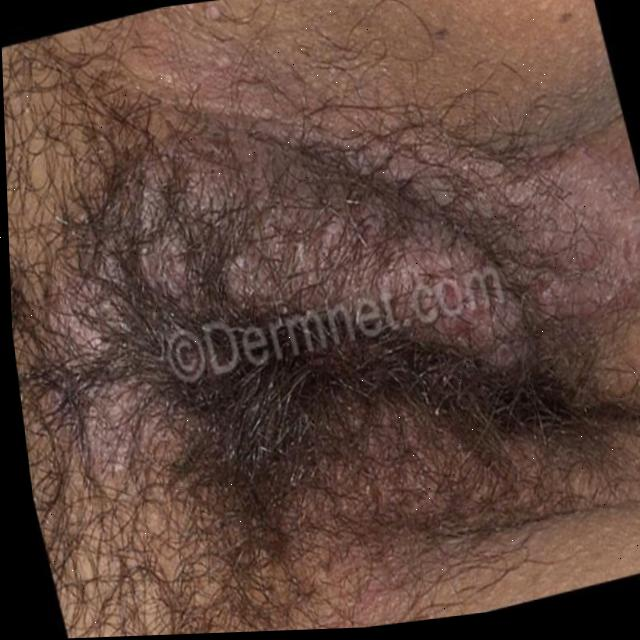Eczema: (30, 87, 640, 406)
